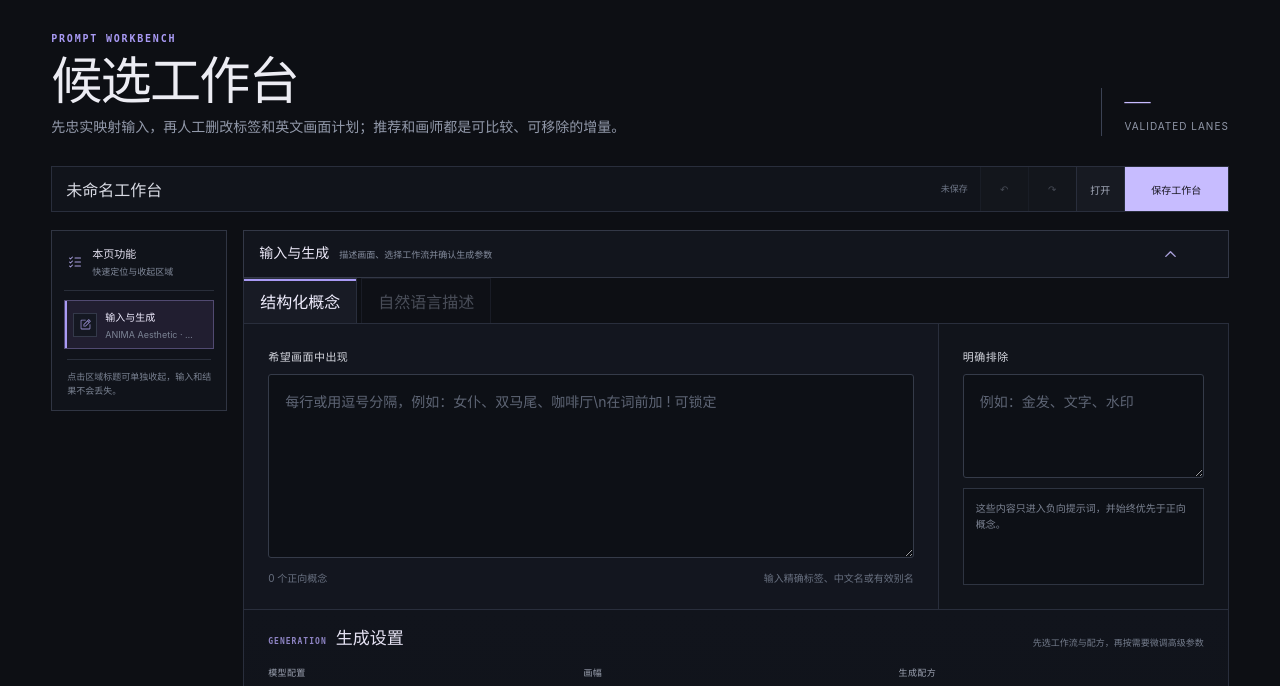
Test: shows the artist comparison pool without injecting artists into candidates
In the text box labelled "希望画面中出现": [591, 466] box x1=268 y1=374 x2=914 y2=558, type "女仆装"
(page scrolled)
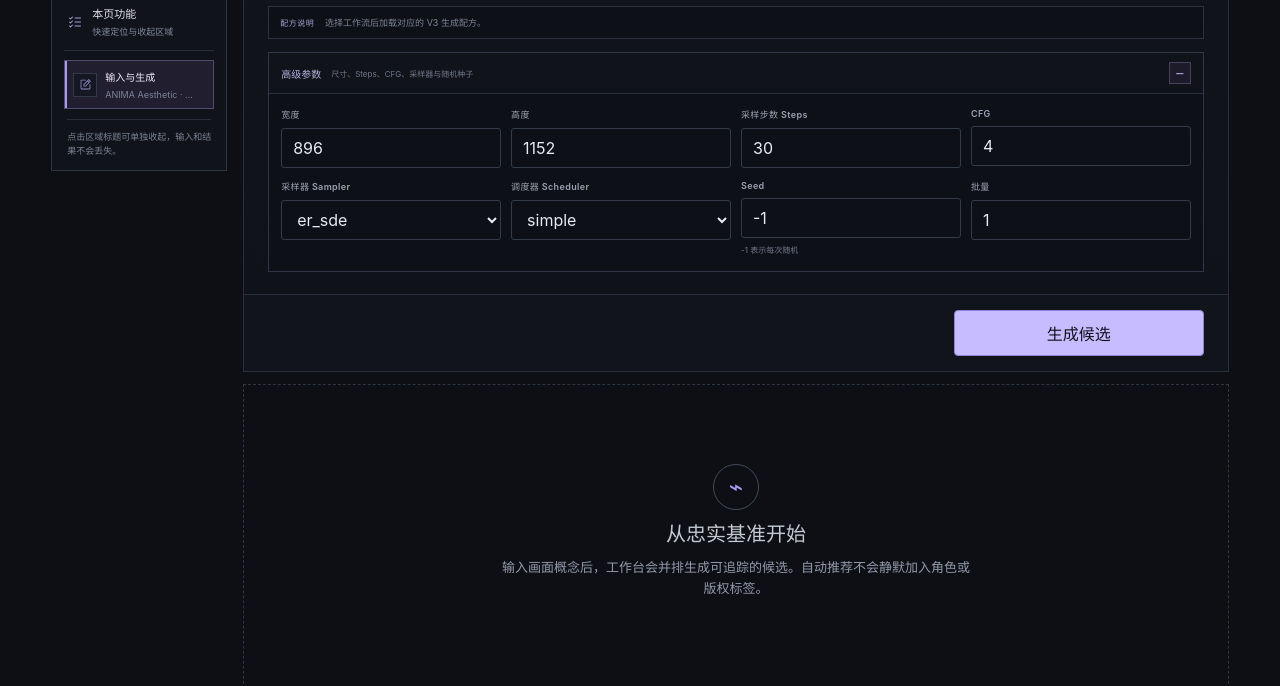
Click the button "生成候选": [1079, 333] box x1=954 y1=310 x2=1204 y2=356
(page scrolled)
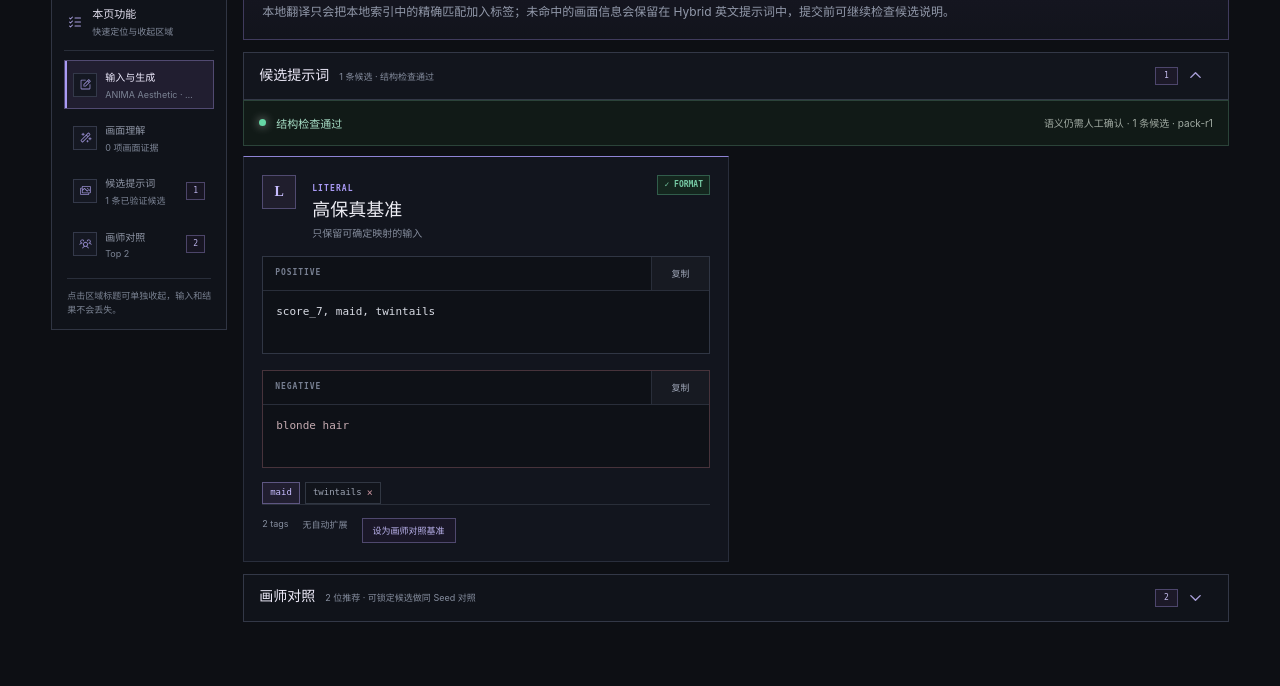
Click the button with aria-label "展开画师对照": [287, 597] box x1=243 y1=574 x2=1229 y2=622
(page scrolled)
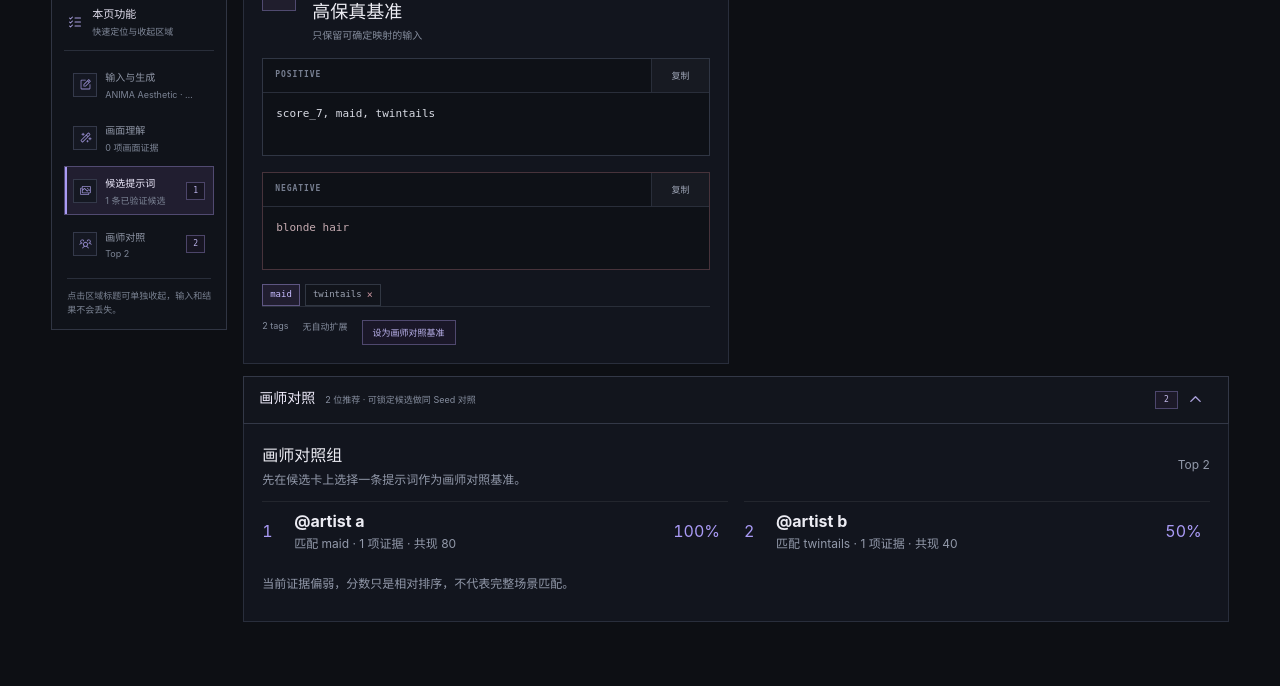
Now the element "画师对照" is shown, box x1=243 y1=423 x2=1229 y2=622
Now the text "@artist a" is shown, box x1=294 y1=511 x2=365 y2=531
Now the text "匹配 maid · 1 项证据 · 共现 80" is shown, box x1=294 y1=536 x2=456 y2=551
